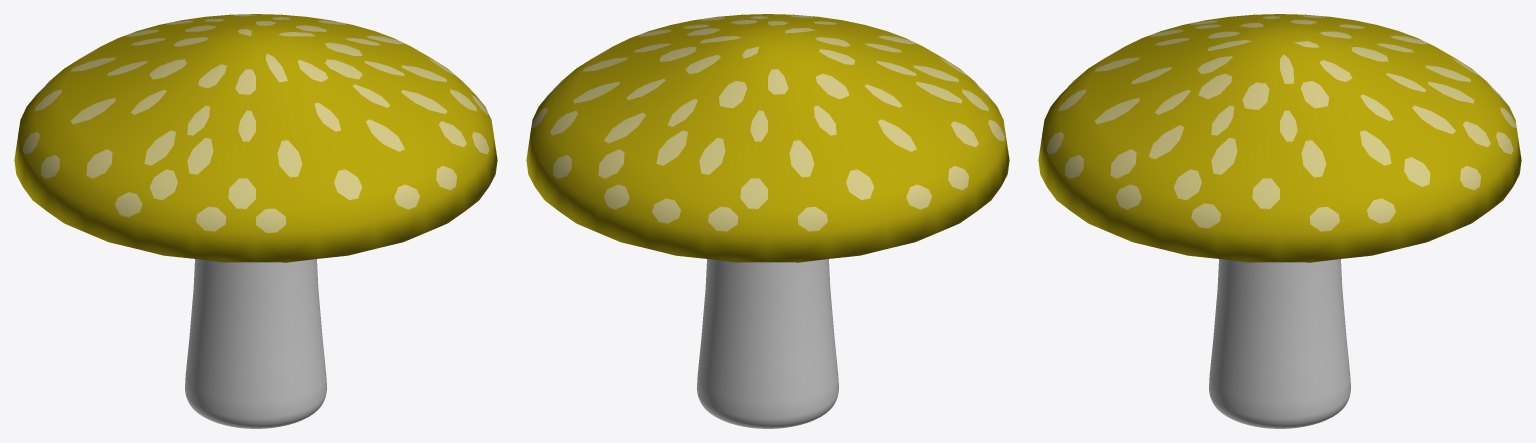
Rendered from golden-mushroom.fbx.
3 views of the same model, side by side, from view 1: azimuth 30°, elevation 25°; view 2: azimuth 150°, elevation 25°; view 3: azimuth 270°, elevation 25° (orthographic).
Visible parts, largest first — view 1: Poly; view 2: Poly; view 3: Poly.
Boxes of the visible parts, left/top/right/bottom form: Poly: left=14, top=14, right=497, bottom=428; Poly: left=526, top=14, right=1009, bottom=428; Poly: left=1038, top=14, right=1521, bottom=428.
Size of the model in its own units: 3.34 by 2.78 by 3.34.
